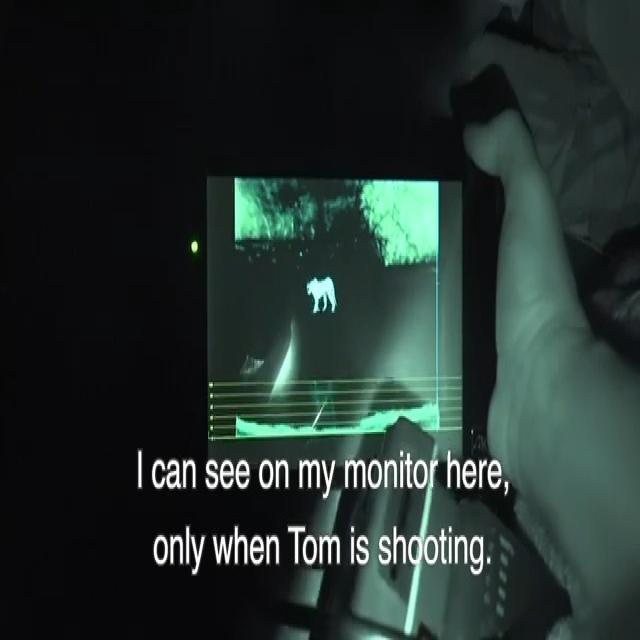animal: (296, 258, 358, 329)
device: (122, 106, 495, 504)
